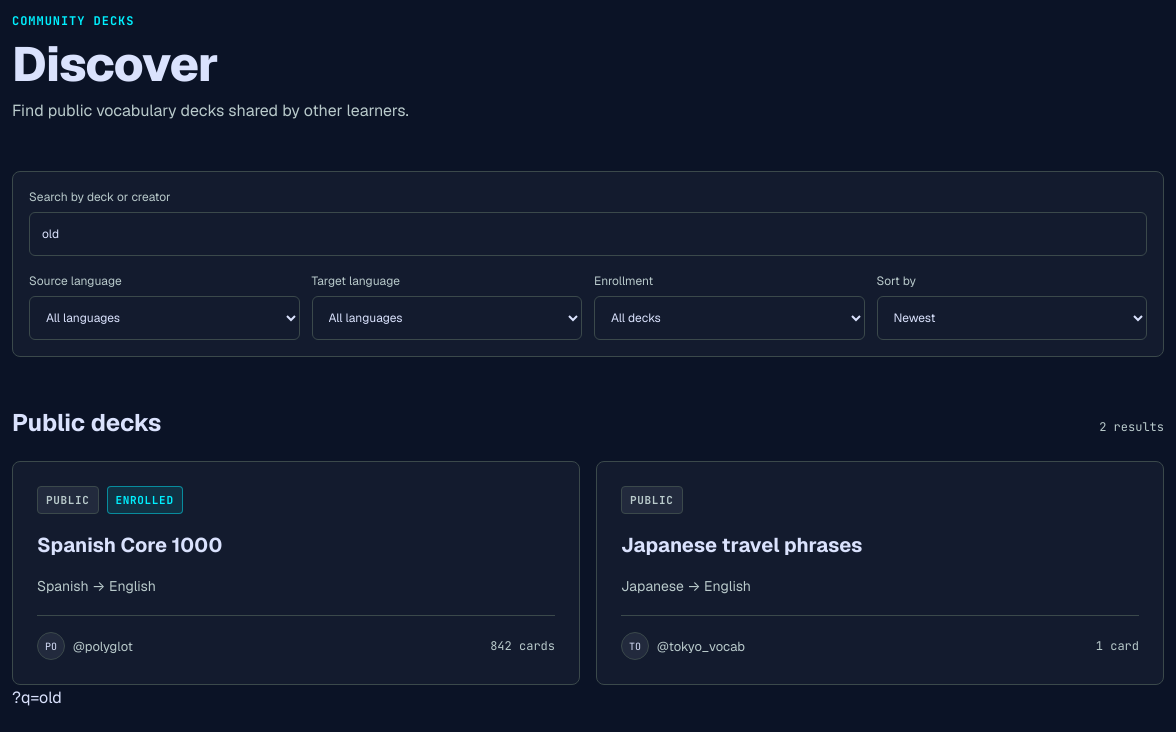
Scenario: DiscoverPage › debounces search, replaces the URL value, and restarts at page zero
Expected: the heading "Spanish Core 1000" is shown, top-left (37, 532), bottom-right (222, 558)
Step 1. Replace the text in the search field with "travel" → point(588, 234), box top-left (29, 212), bottom-right (1147, 256)
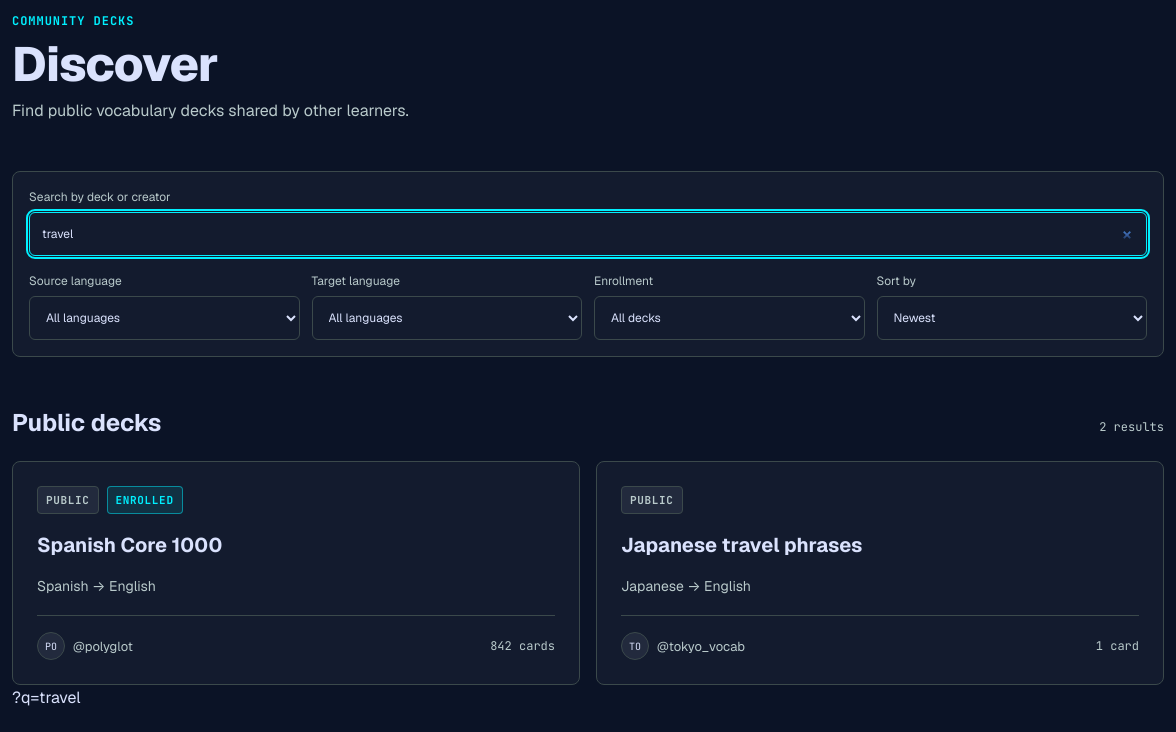
Expected: the text named "Current search" reads "?q=travel", top-left (12, 687), bottom-right (81, 708)
